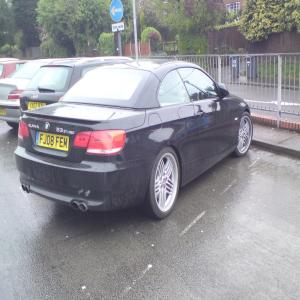Vehicle-registration-plate: (36, 132, 70, 153), (29, 100, 47, 110), (1, 109, 6, 115)
